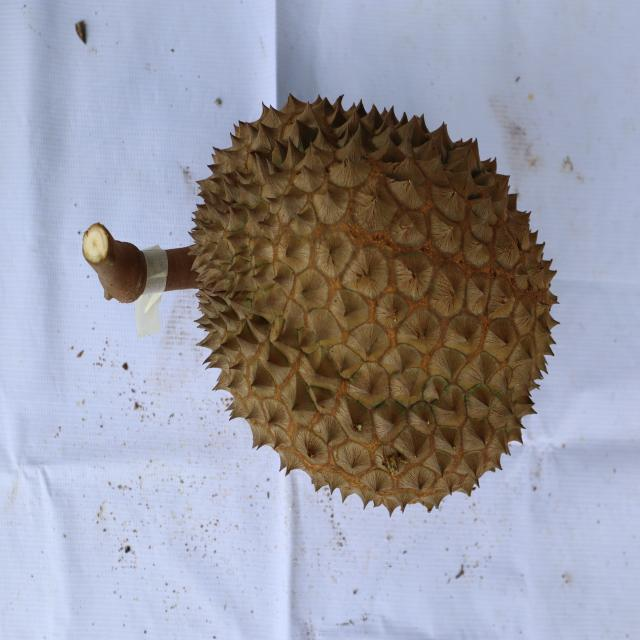mature: (187, 93, 560, 517)
